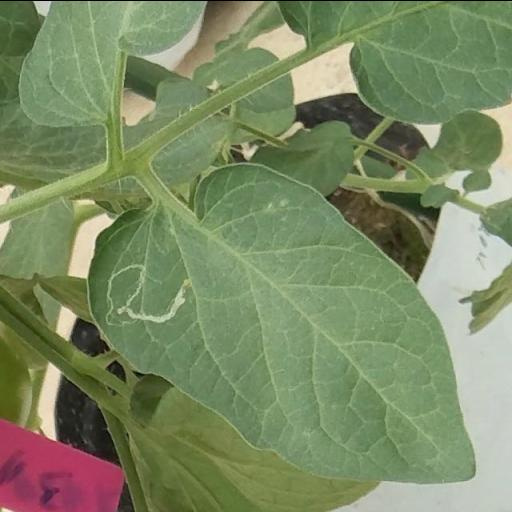disease_tomato: (82, 160, 476, 482)
